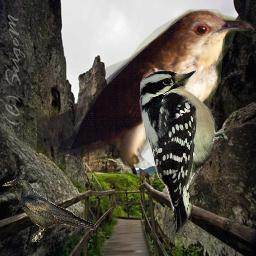Crow: (1, 178, 97, 242)
Cuckoo: (37, 9, 255, 168)
Woodpecker: (137, 66, 242, 237)
